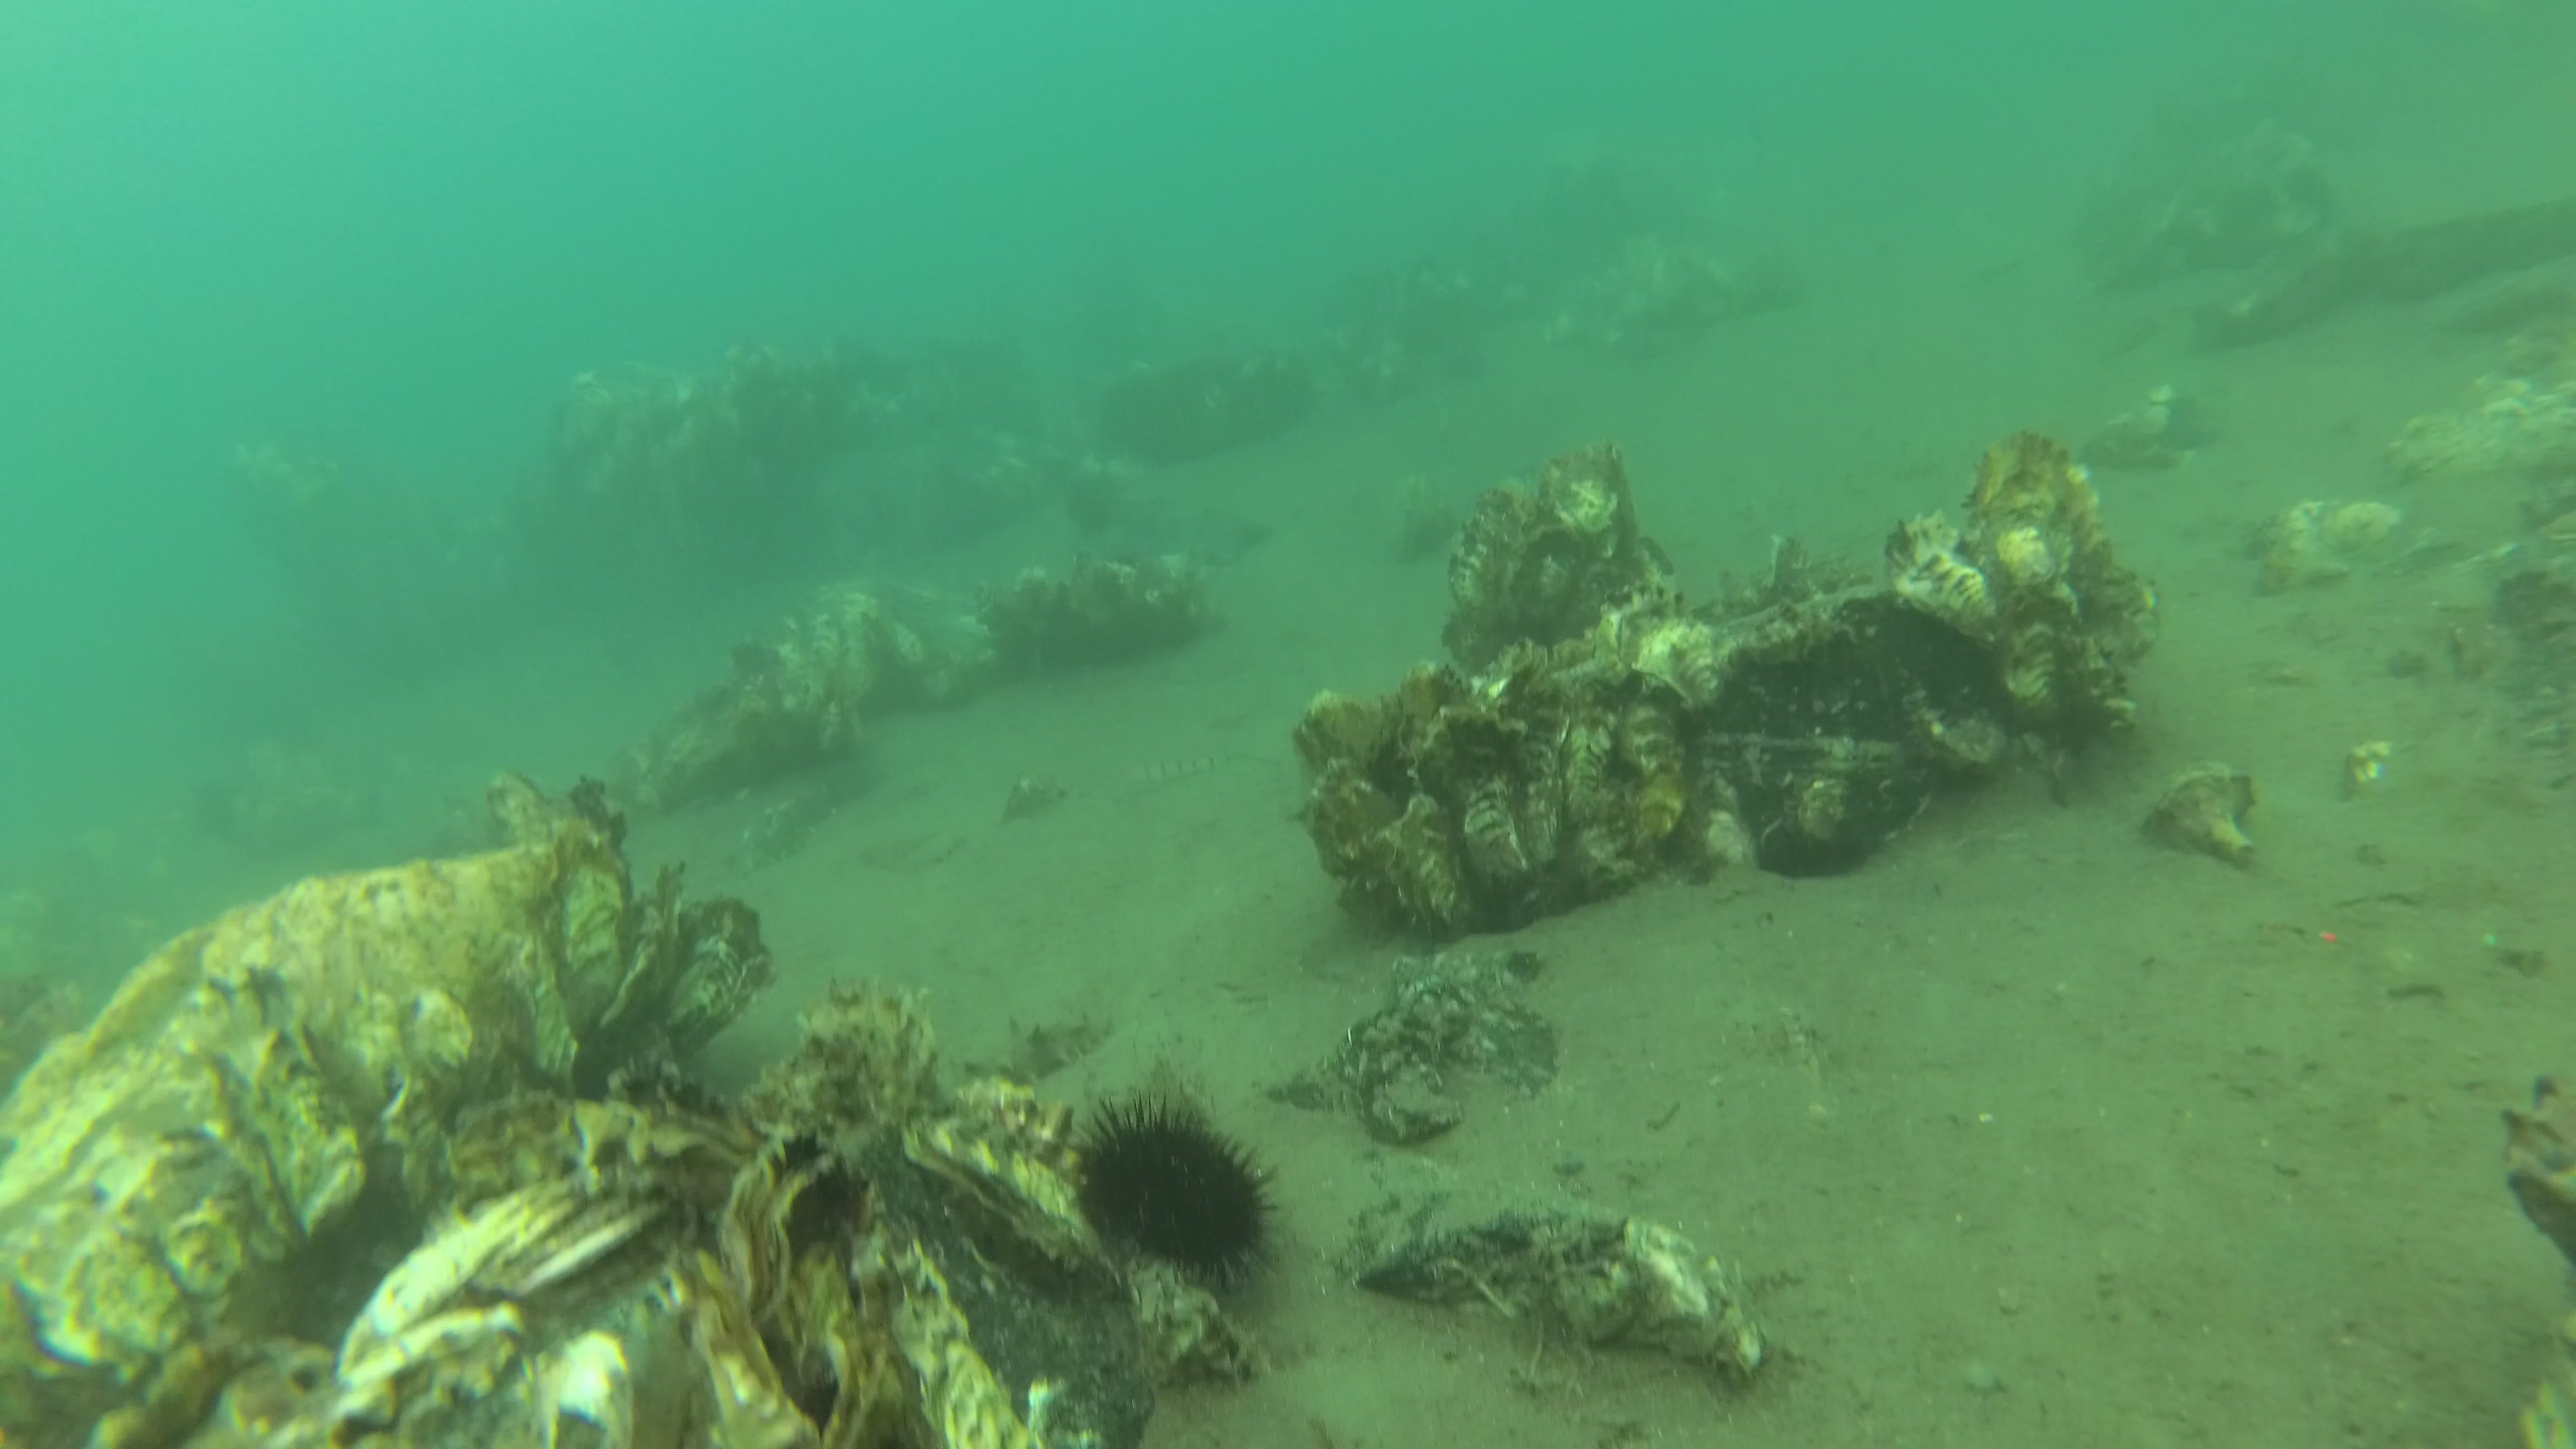echinus: (1069, 1088, 1288, 1292), (1062, 467, 1134, 536), (1437, 345, 1490, 380)
holothurian: (952, 1005, 1106, 1086)
